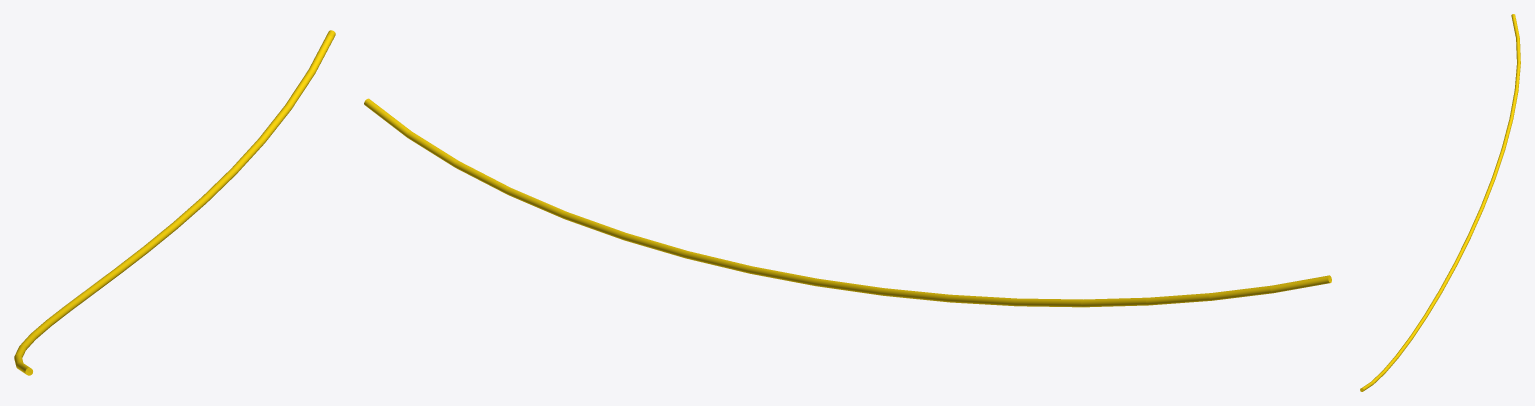
Rendered from Event_421115418_track_89.fbx.
3 renders of one model, left to right at view 1: azimuth 90°, elevation 25°; view 2: azimuth 150°, elevation 25°; view 3: azimuth 270°, elevation 25°, orthographic. The views are drawn at different scales.
Visible parts, largest first — view 1: Model; view 2: Model; view 3: Model.
Boxes of the visible parts, x1,y1,x2,y2 form: Model: [14, 30, 335, 375]; Model: [364, 98, 1331, 307]; Model: [1360, 14, 1520, 391].
Bounding box in the file's own units: 6.58 × 1.31 × 1.64.
